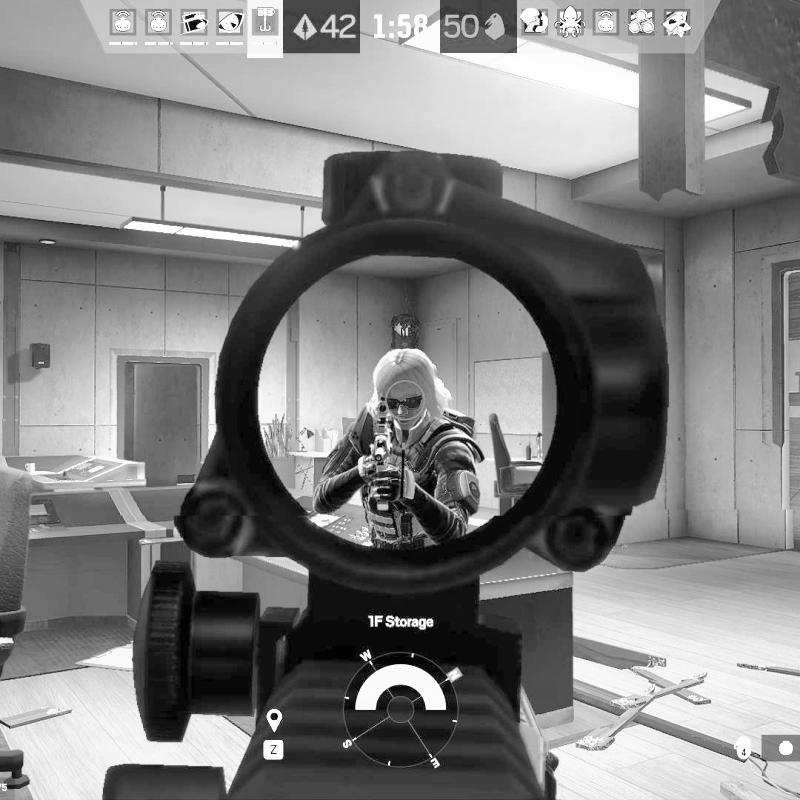Character: (309, 345, 486, 552)
Head: (368, 347, 452, 427)
